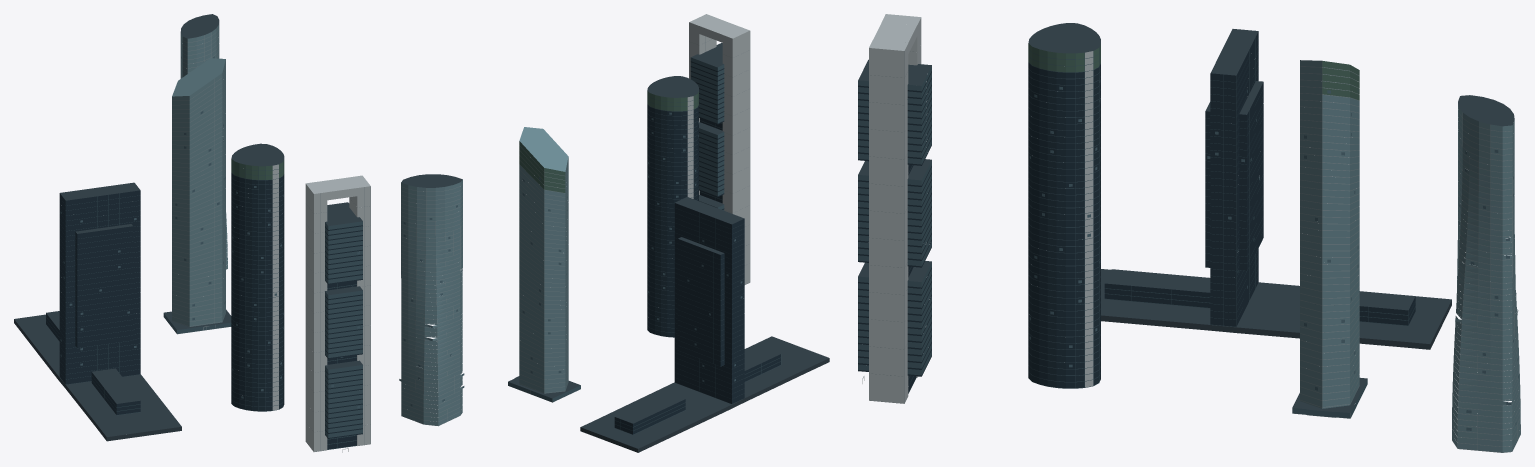
Rendered from cuatro-torres-near.glb.
3 views of the same model, side by side, from view 1: azimuth 30°, elevation 25°; view 2: azimuth 150°, elevation 25°; view 3: azimuth 270°, elevation 25° (orthographic). The views are drawn at different scales.
Parts seen in each view (by area): view 1: cuatro-torres-0-glassDark, cuatro-torres-0-glassBright, cuatro-torres-0-glass, cuatro-torres-0-metal, cuatro-torres-0-roof, cuatro-torres-0-seam, cuatro-torres-0-crown, cuatro-torres-0-light; view 2: cuatro-torres-0-glassBright, cuatro-torres-0-glassDark, cuatro-torres-0-roof, cuatro-torres-0-metal, cuatro-torres-0-glass, cuatro-torres-0-seam, cuatro-torres-0-crown, cuatro-torres-0-light; view 3: cuatro-torres-0-glassDark, cuatro-torres-0-glassBright, cuatro-torres-0-metal, cuatro-torres-0-roof, cuatro-torres-0-glass, cuatro-torres-0-seam, cuatro-torres-0-crown, cuatro-torres-0-light.
Part boxes in pixels (x1,y1,x2,y2): cuatro-torres-0-glassDark: (46, 173, 362, 449); cuatro-torres-0-glassBright: (172, 23, 227, 326); cuatro-torres-0-glass: (46, 163, 362, 449); cuatro-torres-0-metal: (203, 164, 370, 452); cuatro-torres-0-roof: (14, 14, 362, 441); cuatro-torres-0-seam: (167, 29, 370, 451); cuatro-torres-0-crown: (231, 159, 284, 179); cuatro-torres-0-light: (60, 56, 359, 408); cuatro-torres-0-glassBright: (399, 127, 568, 425); cuatro-torres-0-glassDark: (614, 61, 780, 434); cuatro-torres-0-roof: (401, 43, 829, 452); cuatro-torres-0-metal: (687, 14, 749, 284); cuatro-torres-0-glass: (508, 57, 781, 434); cuatro-torres-0-seam: (401, 31, 750, 426); cuatro-torres-0-crown: (519, 91, 698, 192); cuatro-torres-0-light: (403, 112, 742, 406); cuatro-torres-0-glassDark: (858, 31, 1415, 392); cuatro-torres-0-glassBright: (1300, 60, 1520, 452); cuatro-torres-0-metal: (862, 14, 1093, 403); cuatro-torres-0-roof: (858, 23, 1514, 412); cuatro-torres-0-glass: (858, 37, 1415, 418); cuatro-torres-0-seam: (869, 51, 1520, 452); cuatro-torres-0-crown: (1028, 43, 1359, 100); cuatro-torres-0-light: (922, 80, 1518, 430).
Bounding box in the file's own units: 276 × 249 × 423.
